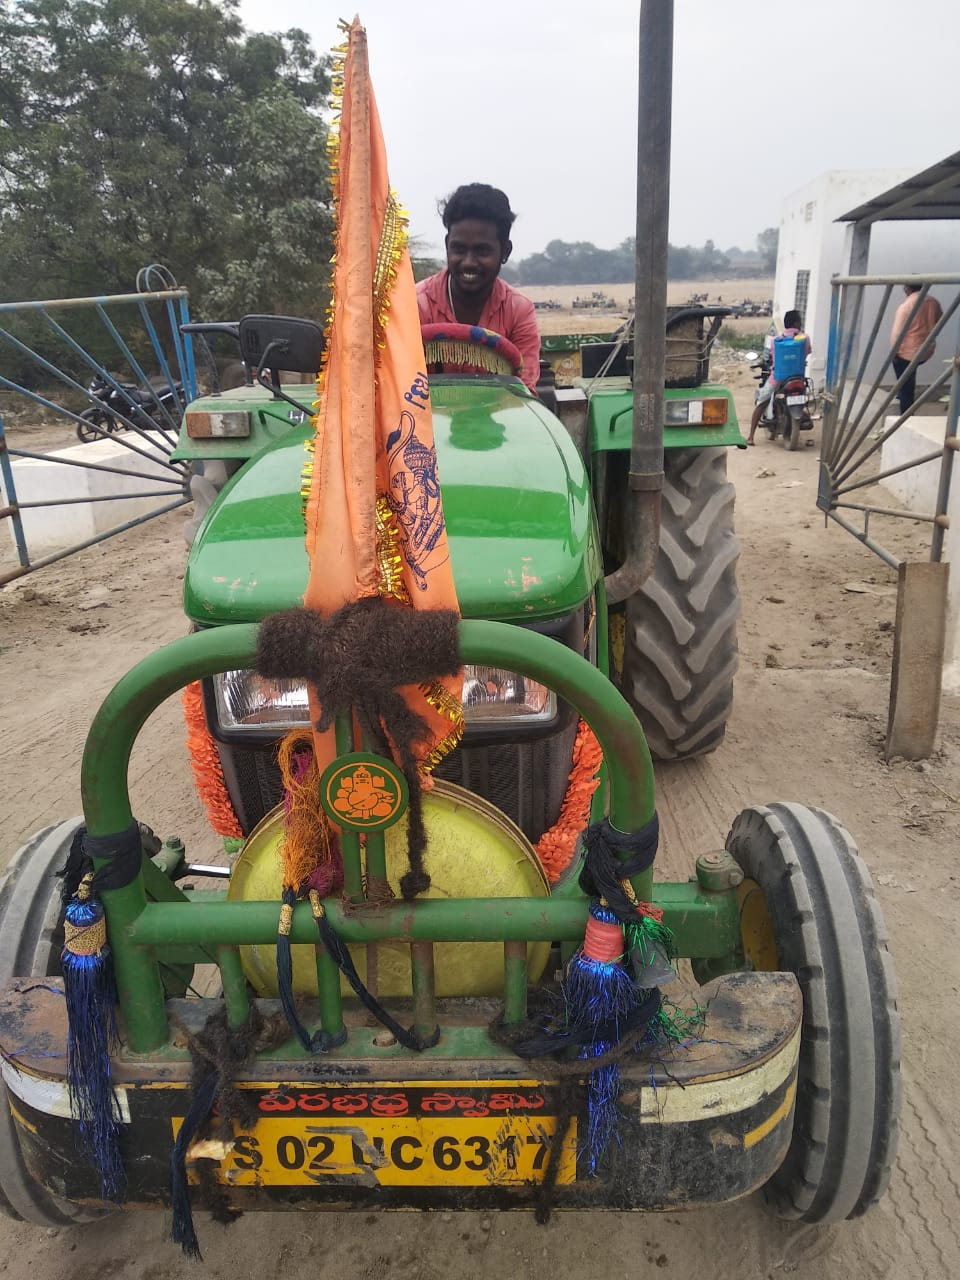license_plate: (180, 1117, 563, 1190)
